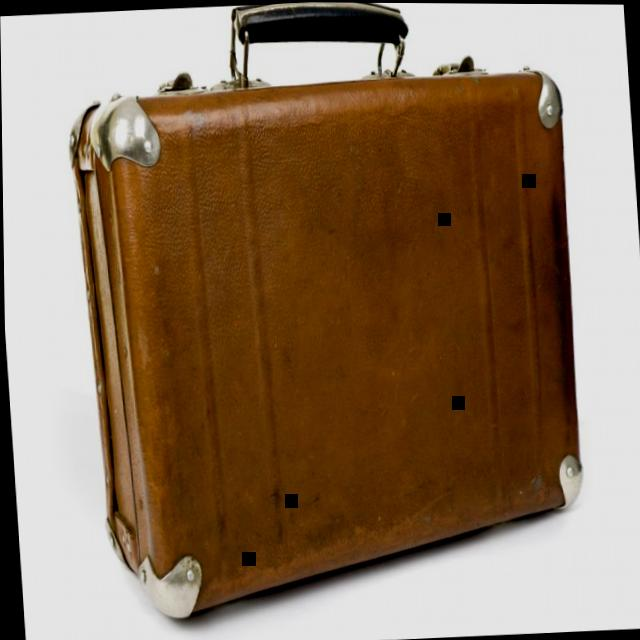luggage: (55, 44, 600, 631)
